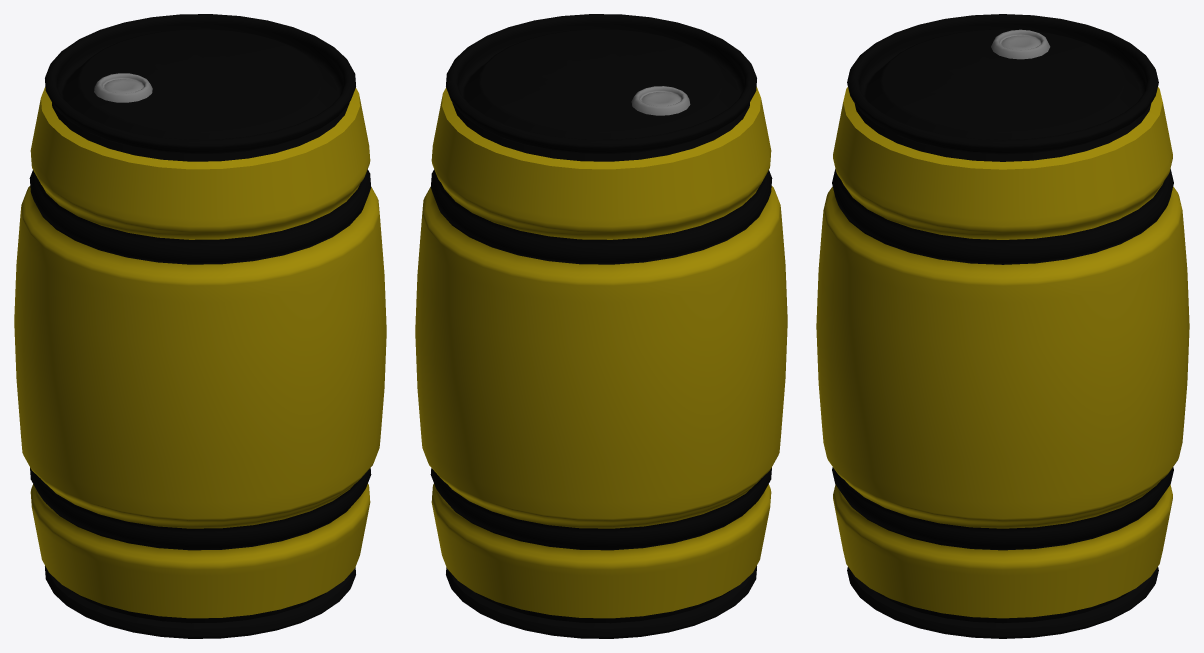
Rendered from Barrel.fbx.
3 views of the same model, side by side, from view 1: azimuth 30°, elevation 25°; view 2: azimuth 150°, elevation 25°; view 3: azimuth 270°, elevation 25° (orthographic).
Parts seen in each view (by area): view 1: BarrelReg, Hole; view 2: BarrelReg, Hole; view 3: BarrelReg, Hole.
Boxes of the visible parts, x1,y1,x2,y2 form: BarrelReg: [14, 14, 386, 638]; Hole: [94, 73, 152, 102]; BarrelReg: [415, 14, 787, 638]; Hole: [631, 86, 690, 115]; BarrelReg: [816, 14, 1189, 638]; Hole: [991, 29, 1050, 59].
Size of the model in its own units: 3.58 by 5.31 by 3.58.
